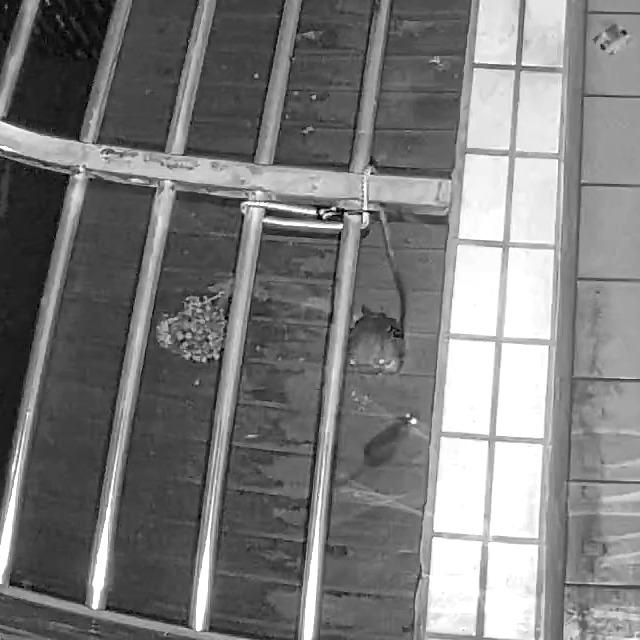rat: (332, 413, 420, 490)
